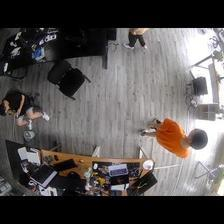normal: (139, 114, 208, 160), (122, 28, 151, 51)
